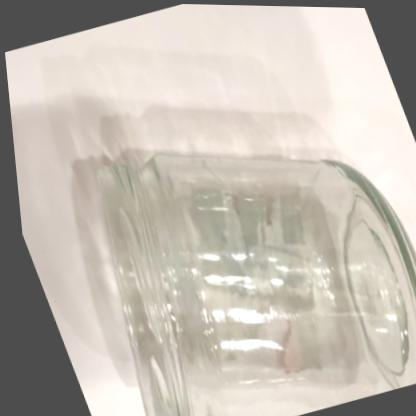Glass: (91, 152, 416, 416)
